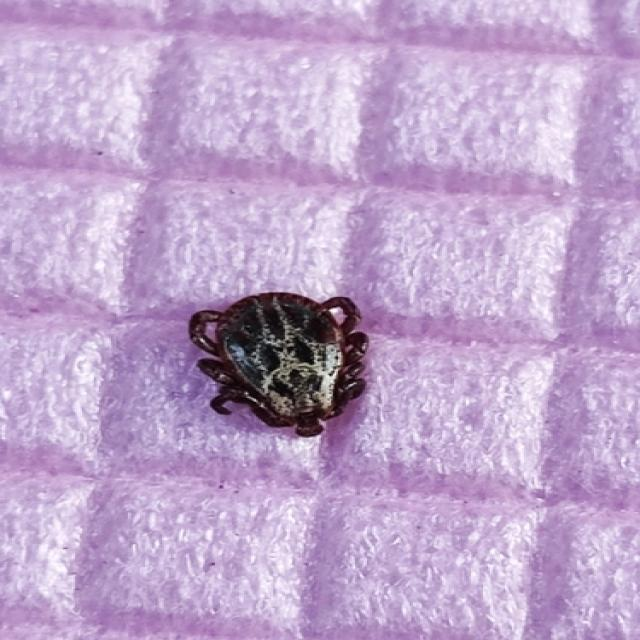Dermacentor Reticulatus-M: (188, 292, 370, 439)
